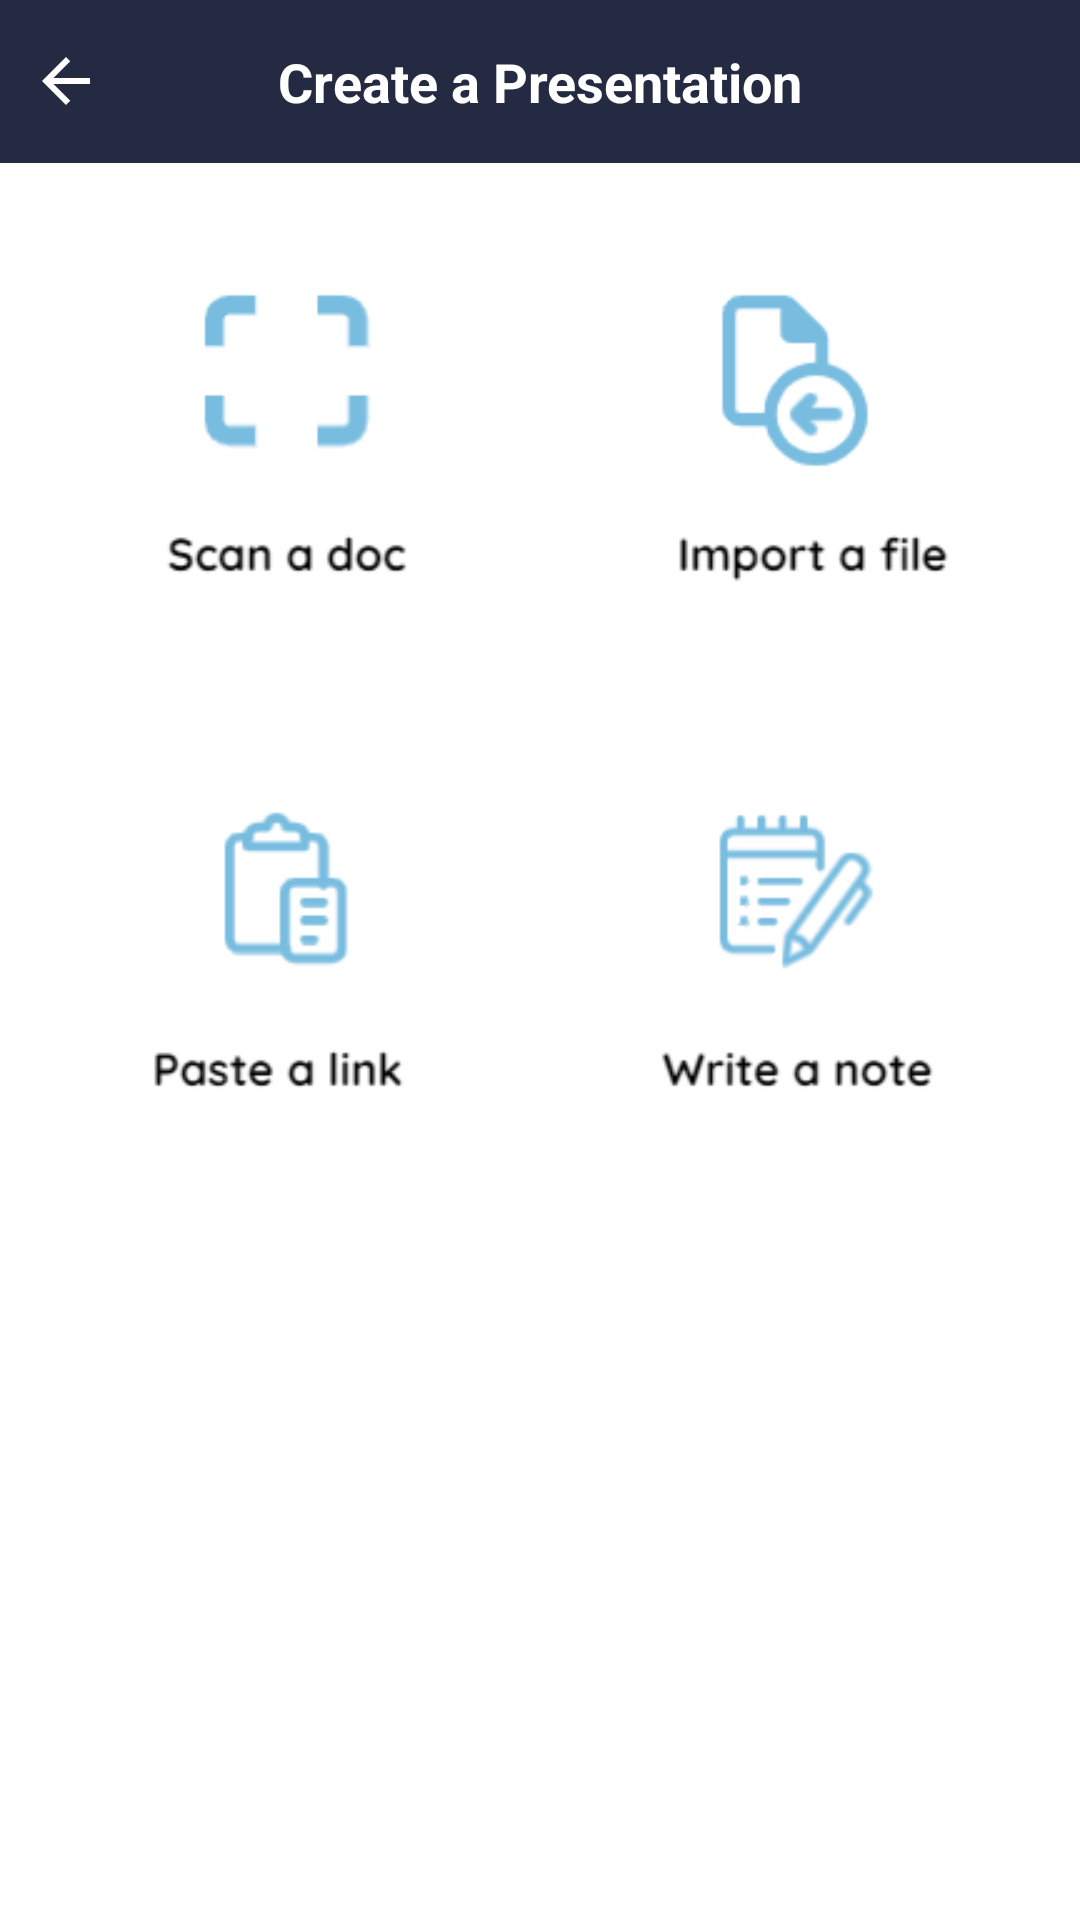

Icon bounding boxes for this 1080w x 1920h phone screenshot, format bbox=(x1, y1, x2, y2):
arrow back: bbox=(42, 57, 90, 105)
